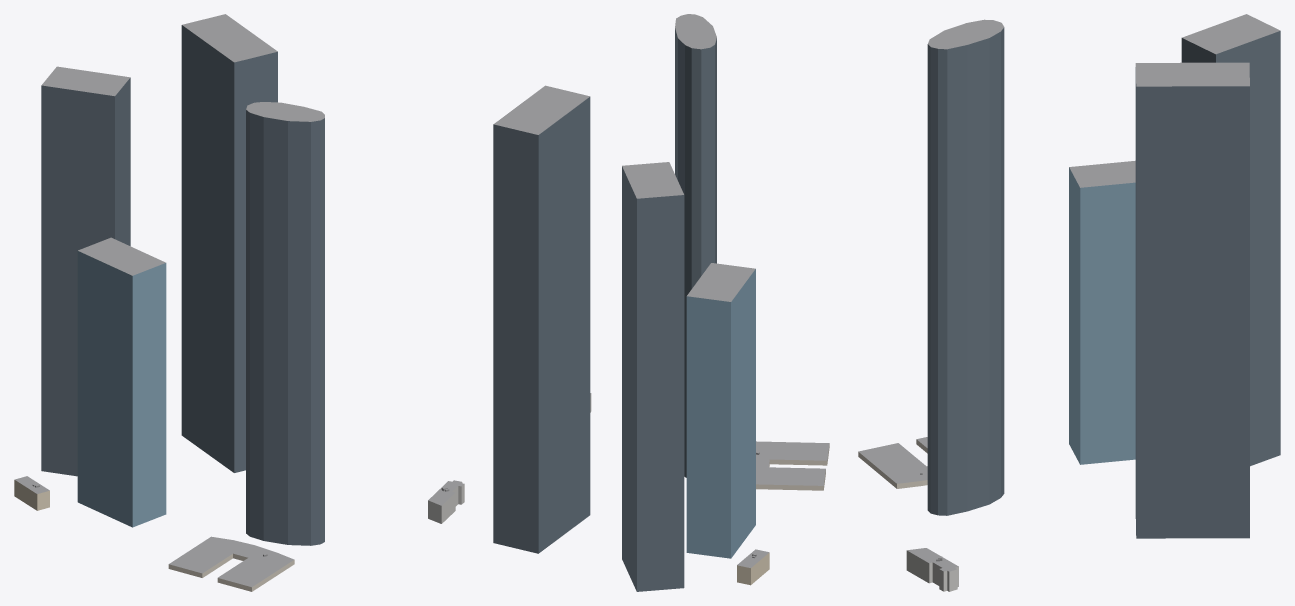
File: building_-3_2.glb
The picture shows the model from 3 angles, left to right: view 1: azimuth 30°, elevation 25°; view 2: azimuth 150°, elevation 25°; view 3: azimuth 270°, elevation 25°; orthographic projection. The views are drawn at different scales.
Parts seen in each view (by area): view 1: glass_dark, glass_blue, roof, concrete_warm, concrete_light, sandstone; view 2: glass_dark, glass_blue, roof, concrete_warm, sandstone; view 3: glass_dark, glass_blue, roof, concrete_light.
Part boxes in pixels (left/top/right/bottom): glass_dark: left=41, top=25, right=324, bottom=545; glass_blue: left=77, top=251, right=166, bottom=527; roof: left=15, top=14, right=464, bottom=587; concrete_warm: left=168, top=553, right=294, bottom=591; concrete_light: left=428, top=482, right=464, bottom=523; sandstone: left=14, top=480, right=49, bottom=510; glass_dark: left=493, top=28, right=716, bottom=591; glass_blue: left=686, top=269, right=755, bottom=558; roof: left=494, top=14, right=829, bottom=567; concrete_warm: left=756, top=444, right=829, bottom=490; sandstone: left=737, top=552, right=769, bottom=585; glass_dark: left=927, top=27, right=1280, bottom=538; glass_blue: left=1069, top=167, right=1135, bottom=464; roof: left=858, top=14, right=1280, bottom=571; concrete_light: left=906, top=550, right=958, bottom=591.
Size of the model in its own units: 236 by 288 by 236.
